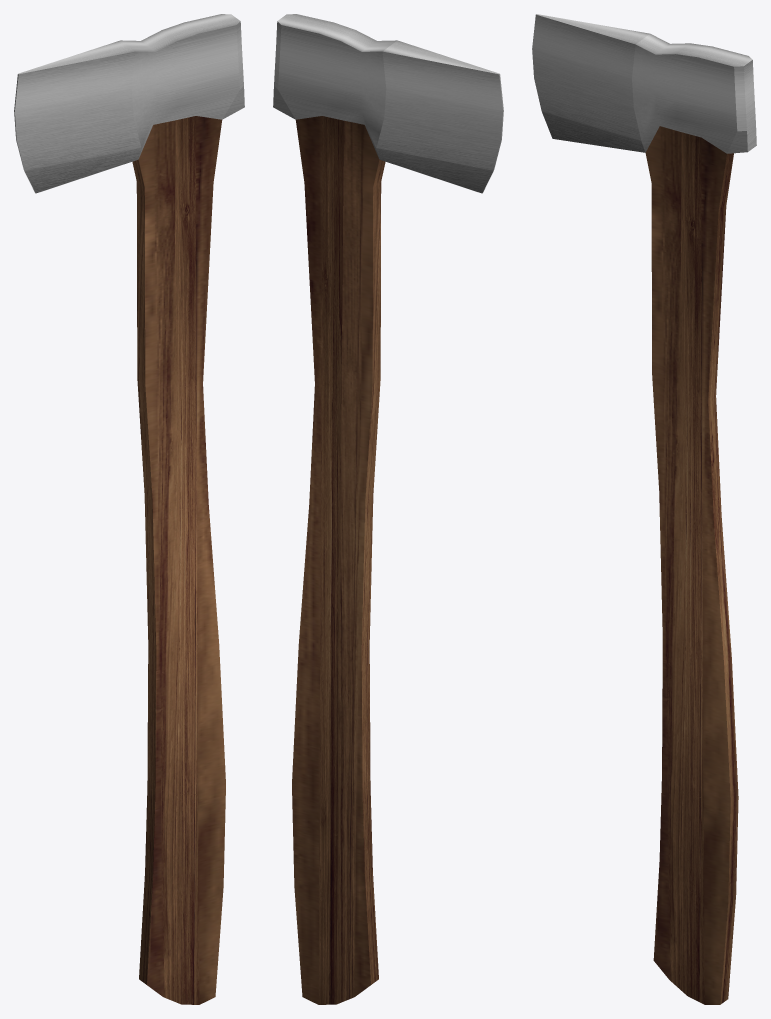
The model's file is Axe.fbx.
3 renders of one model, left to right at view 1: azimuth 30°, elevation 25°; view 2: azimuth 150°, elevation 25°; view 3: azimuth 330°, elevation 25°, orthographic. The views are drawn at different scales.
Parts seen in each view (by area): view 1: pCube1; view 2: pCube1; view 3: pCube1.
Boxes of the visible parts, x1,y1,x2,y2 form: pCube1: (14,14,244,1004); pCube1: (273,14,503,1004); pCube1: (532,14,756,1004).
Size of the model in its own units: 2.61 by 10.77 by 0.3033.
